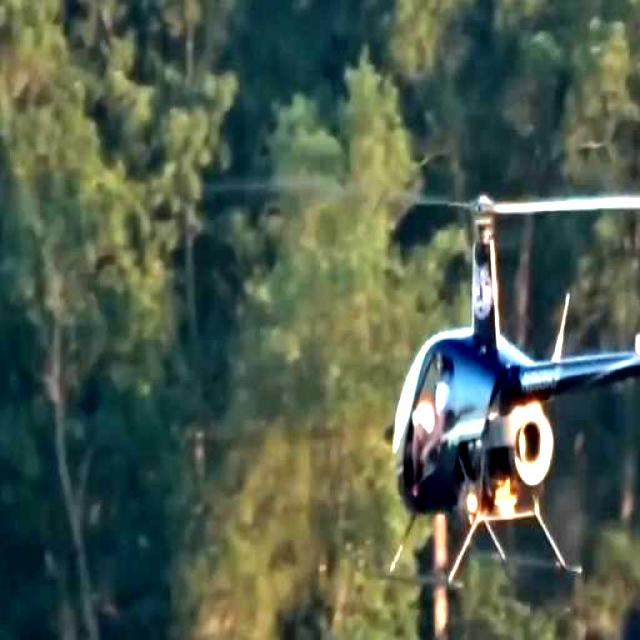drone: (362, 161, 640, 575)
